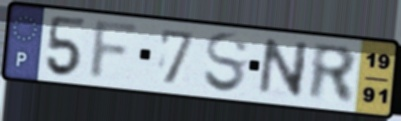5: (43, 13, 88, 79)
7: (157, 27, 197, 87)
F: (85, 18, 144, 84)
N: (255, 37, 312, 100)
R: (307, 40, 359, 107)
S: (201, 30, 251, 96)
